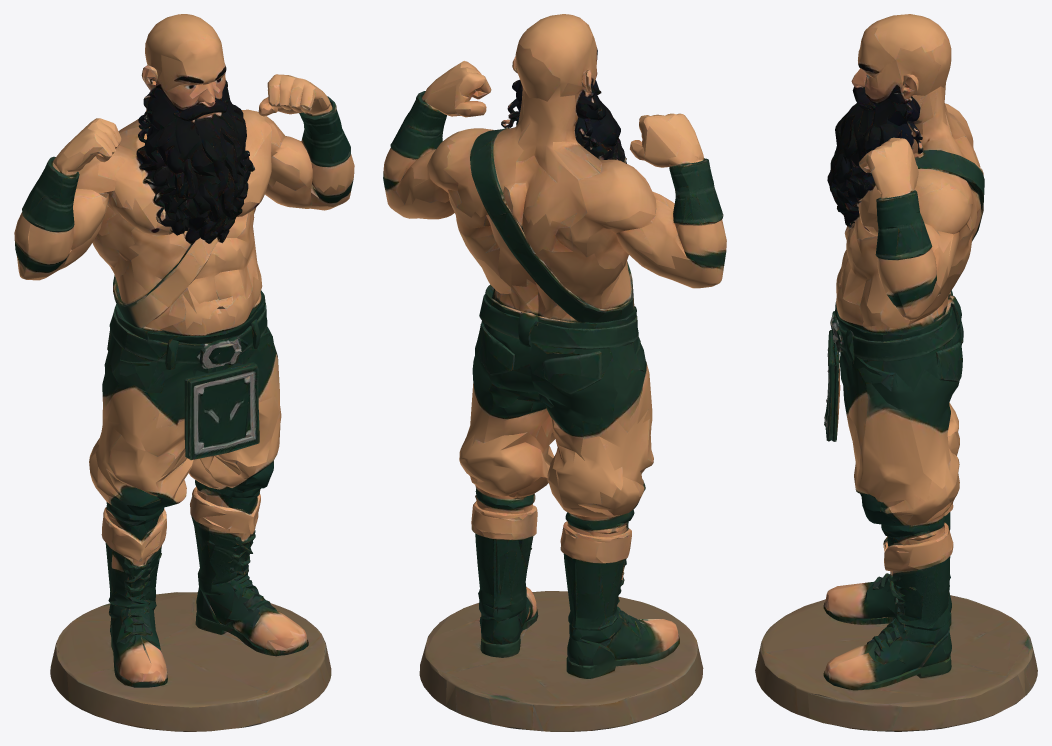
File: boulder.glb
The picture shows the model from 3 angles, left to right: view 1: azimuth 30°, elevation 25°; view 2: azimuth 150°, elevation 25°; view 3: azimuth 270°, elevation 25°; orthographic projection.
Bounding box in the file's own units: 1.01 × 1.9 × 0.7443.
1 material, 1 textured.
